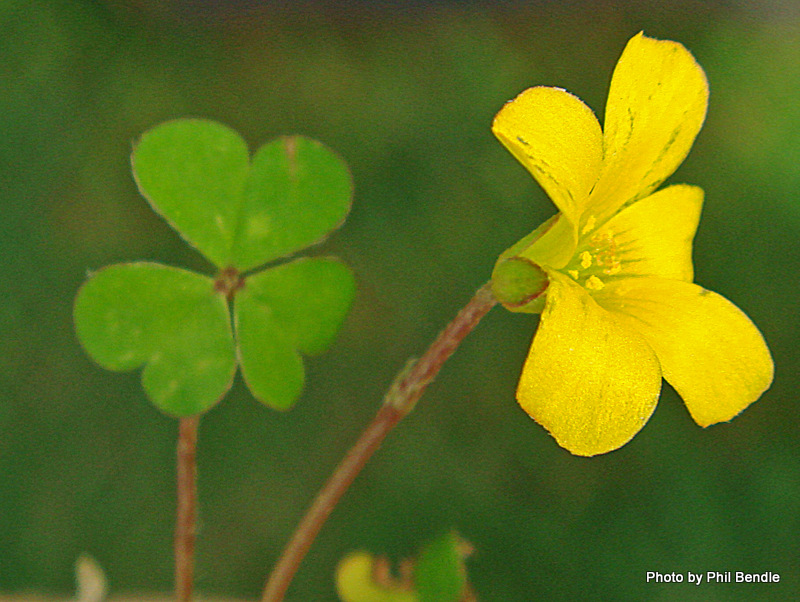oxalis: (44, 141, 382, 399)
